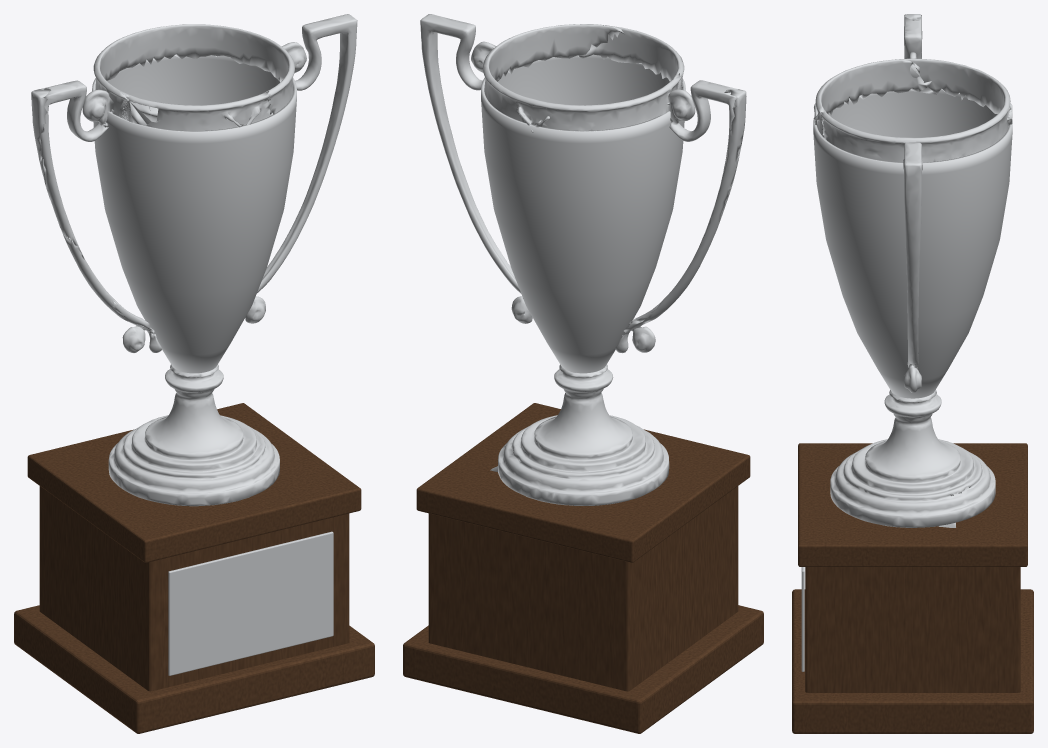
Rendered from SilverCup.fbx.
3 renders of one model, left to right at view 1: azimuth 30°, elevation 25°; view 2: azimuth 150°, elevation 25°; view 3: azimuth 270°, elevation 25°, orthographic. The views are drawn at different scales.
Parts seen in each view (by area): view 1: Trophy_SilverCup_LOD0, Cup_Plinth_Block, Cup_Plinth_Top, Cup_Blank_Plate, Cup_Plinth_Step; view 2: Trophy_SilverCup_LOD0, Cup_Plinth_Block, Cup_Plinth_Top, Cup_Plinth_Step; view 3: Trophy_SilverCup_LOD0, Cup_Plinth_Block, Cup_Plinth_Top, Cup_Plinth_Step, Cup_Blank_Plate.
Boxes of the visible parts, bbox=[...] form: Trophy_SilverCup_LOD0: bbox=[31, 14, 357, 506]; Cup_Plinth_Block: bbox=[39, 486, 349, 691]; Cup_Plinth_Top: bbox=[27, 403, 361, 562]; Cup_Blank_Plate: bbox=[168, 531, 333, 675]; Cup_Plinth_Step: bbox=[14, 605, 374, 733]; Trophy_SilverCup_LOD0: bbox=[420, 14, 746, 505]; Cup_Plinth_Block: bbox=[428, 486, 738, 691]; Cup_Plinth_Top: bbox=[416, 403, 750, 562]; Cup_Plinth_Step: bbox=[403, 605, 763, 733]; Trophy_SilverCup_LOD0: bbox=[813, 14, 1012, 527]; Cup_Plinth_Block: bbox=[805, 567, 1020, 692]; Cup_Plinth_Top: bbox=[798, 443, 1027, 566]; Cup_Plinth_Step: bbox=[792, 589, 1033, 733]; Cup_Blank_Plate: bbox=[801, 567, 804, 671].
Bounding box in the file's own units: 17.62 × 32 × 11.9.
Materials: 5 (3 with a texture image).
